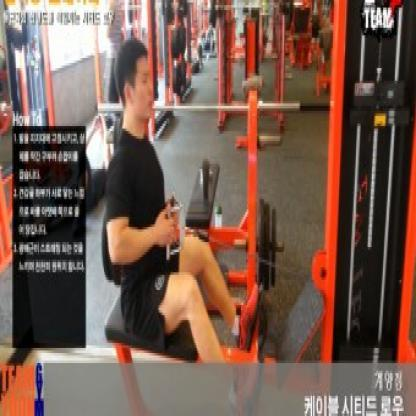Seated Cable Rows: (78, 0, 416, 414)
